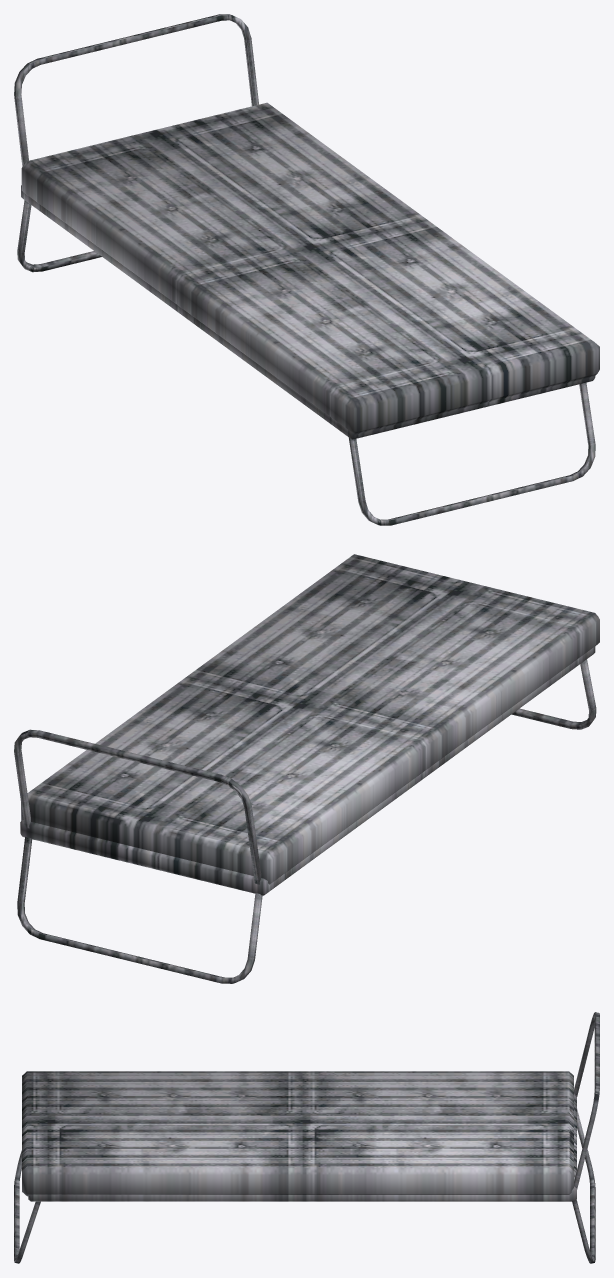
Rendered from low_bed_5.obj.
3 views of the same model, one above another, from view 1: azimuth 30°, elevation 25°; view 2: azimuth 150°, elevation 25°; view 3: azimuth 270°, elevation 25° (orthographic). The views are drawn at different scales.
Visible parts, largest first — view 1: LOW_BED_5; view 2: LOW_BED_5; view 3: LOW_BED_5.
Part boxes in pixels (x1,y1,x2,y2): LOW_BED_5: [14, 14, 599, 525]; LOW_BED_5: [14, 554, 599, 983]; LOW_BED_5: [14, 1012, 599, 1263].
Size of the model in its own units: 0.9542 by 0.764 by 2.34.
Materials: 1 (1 with a texture image).
